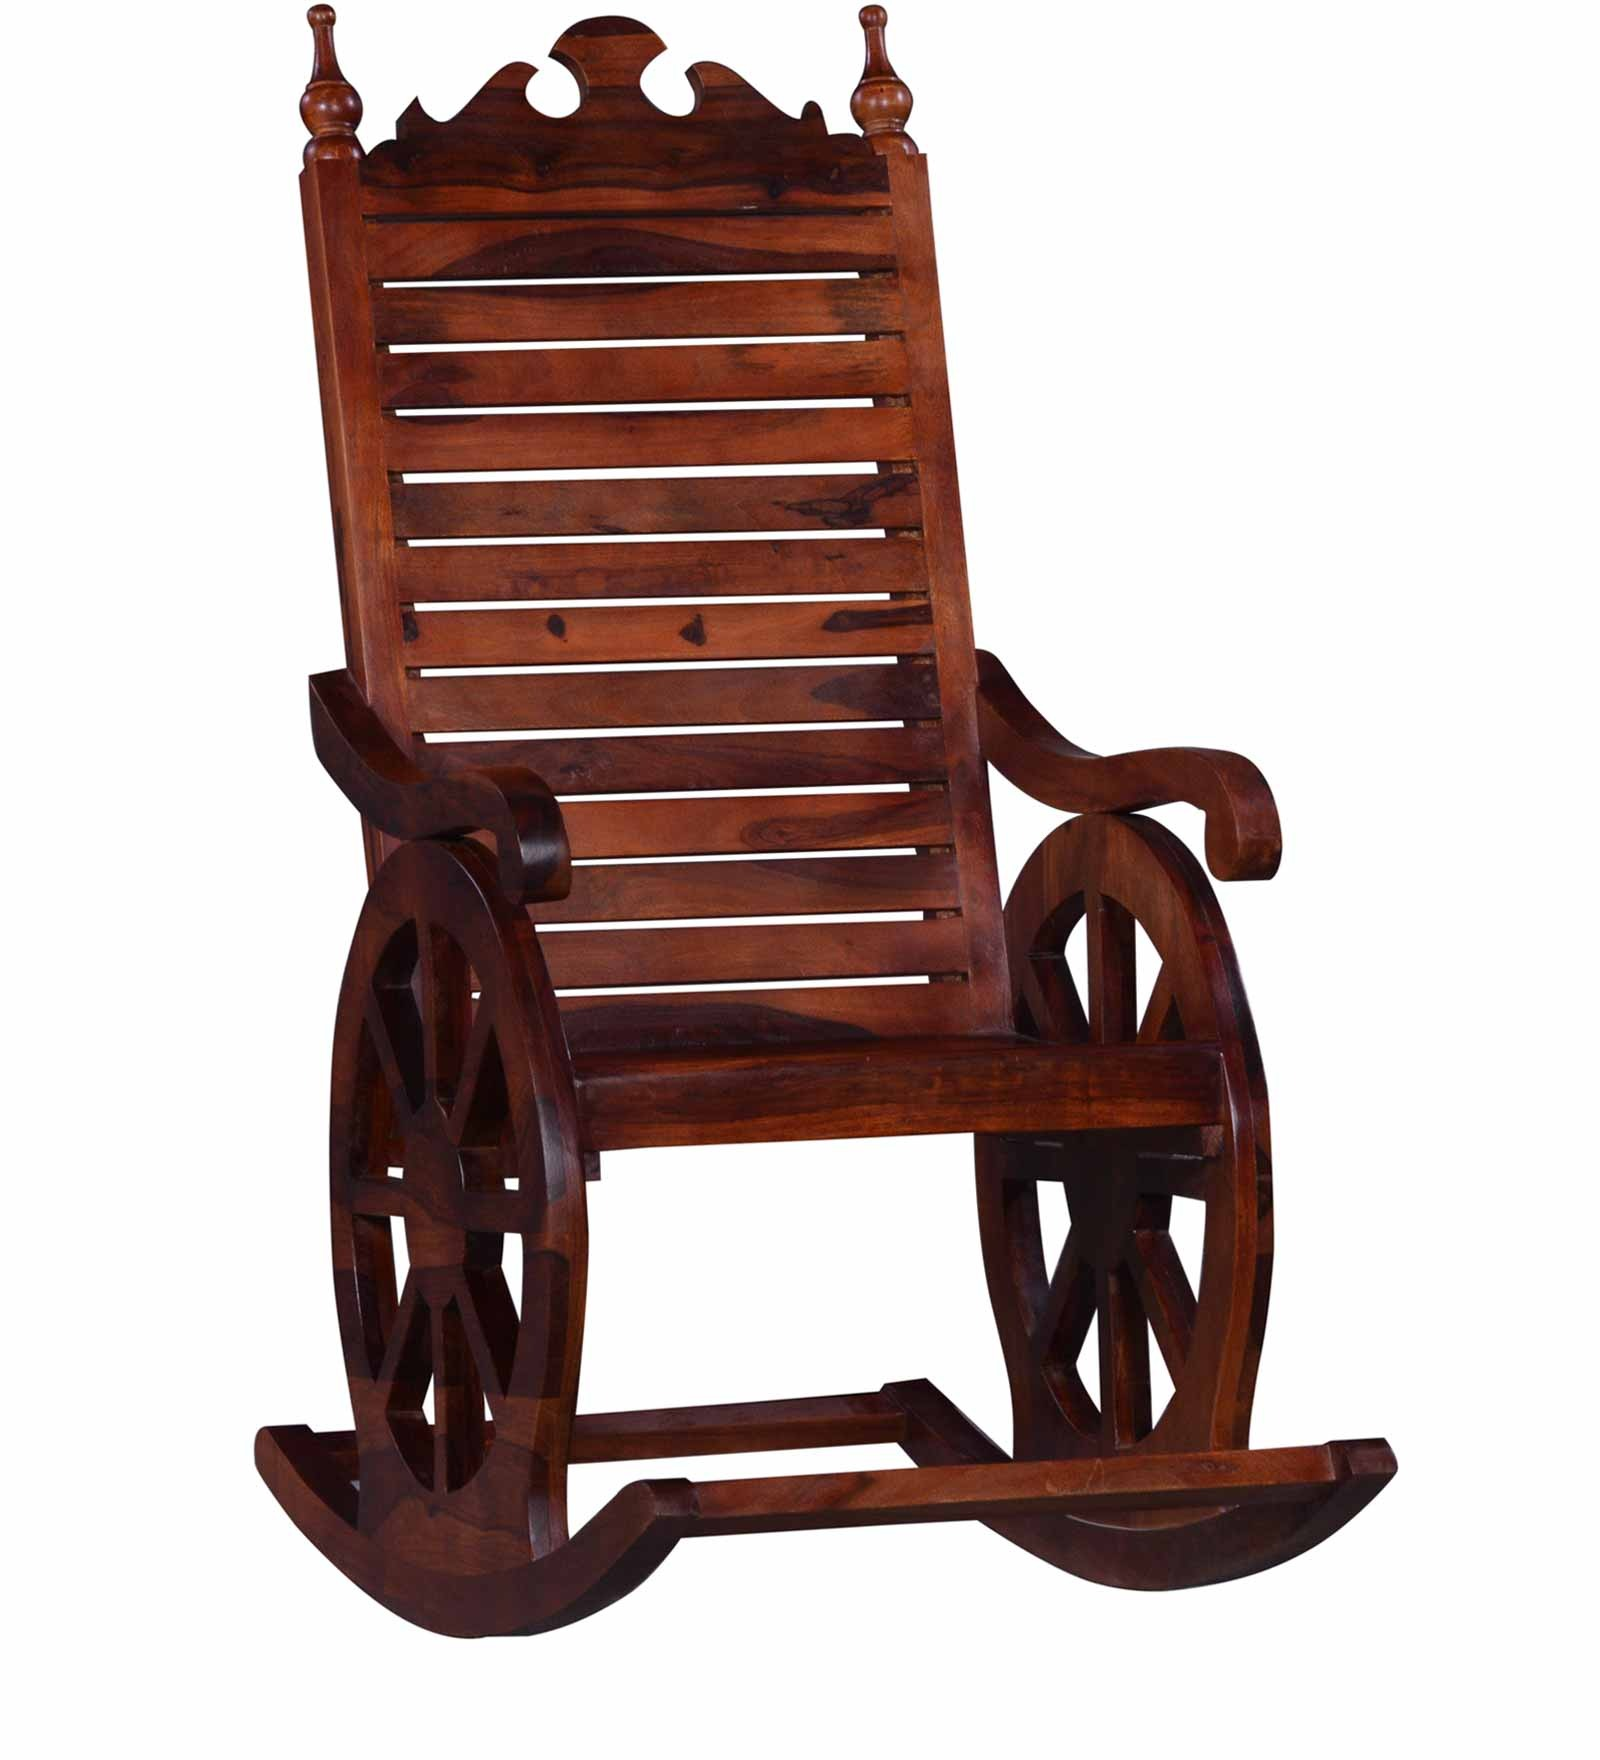Harold Rocking Chair in Honey Oak Finish by Amberville: (225, 2, 1447, 1660)
